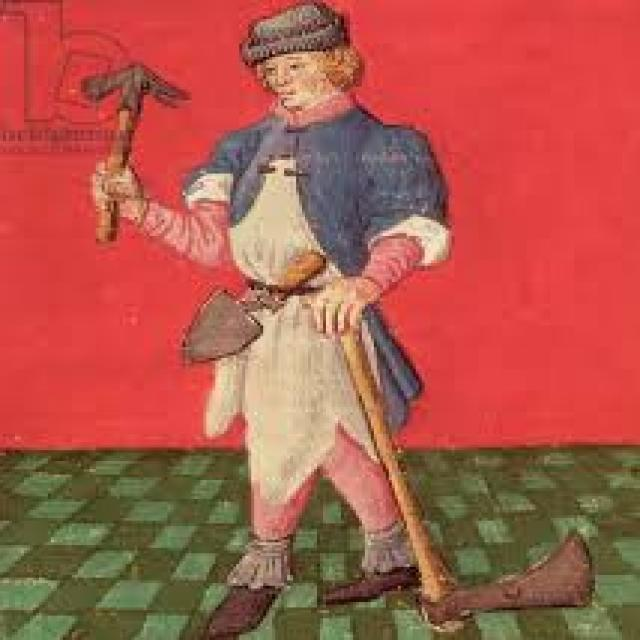hammer: (72, 35, 192, 242)
